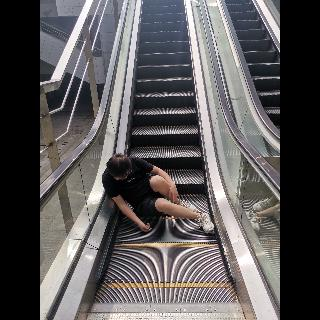anomaly: (102, 152, 215, 234)
